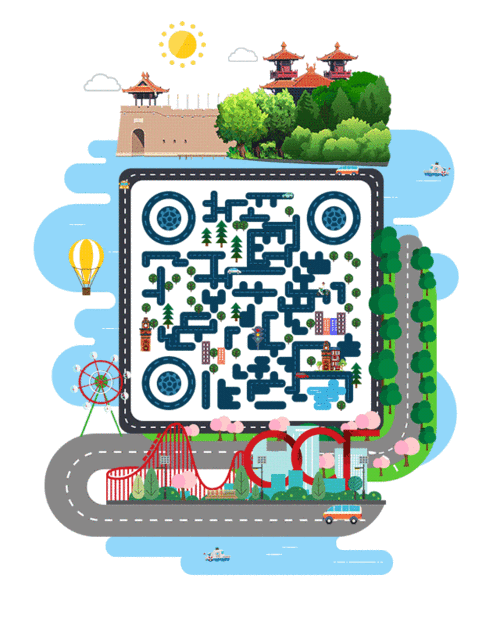QRCode: (137, 188, 366, 419)
